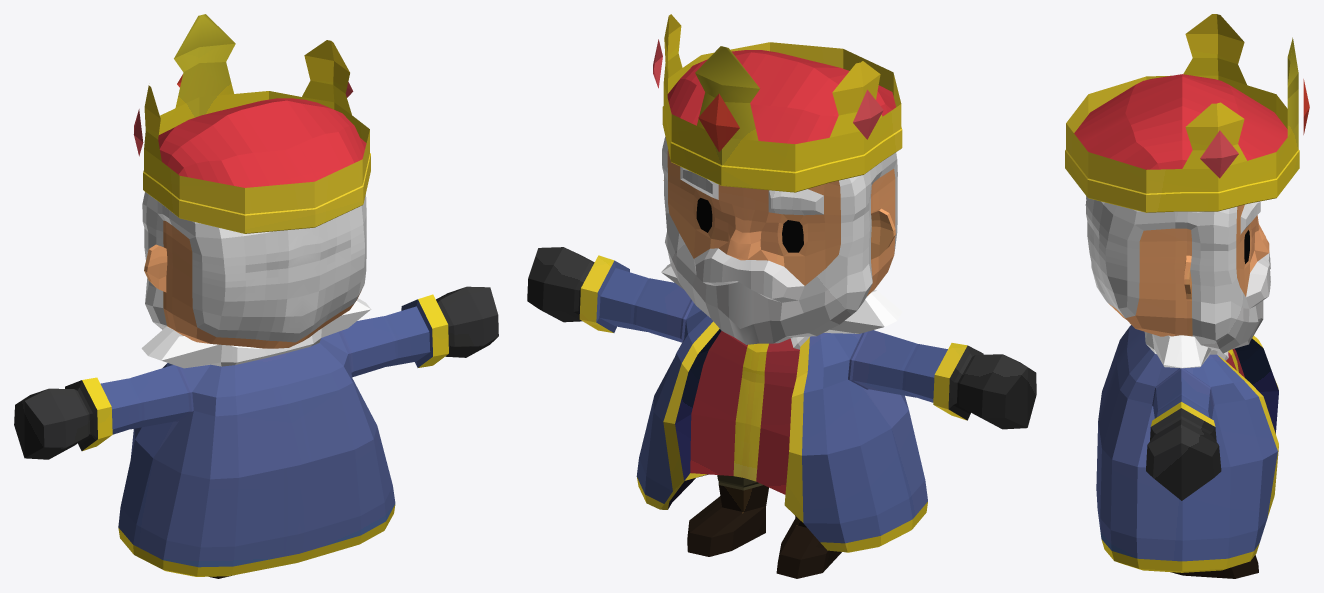
File: _king1-opt.glb
3 views of the same model, side by side, from view 1: azimuth 30°, elevation 25°; view 2: azimuth 150°, elevation 25°; view 3: azimuth 270°, elevation 25° (orthographic). The views are drawn at different scales.
Parts seen in each view (by area): view 1: Body; view 2: Body; view 3: Body.
Part boxes in pixels (bbox=[...]): Body: bbox=[14, 14, 498, 578]; Body: bbox=[527, 14, 1036, 578]; Body: bbox=[1065, 14, 1309, 578].
Size of the model in its own units: 4.09 by 4.24 by 1.85.
Materials: 1 (1 with a texture image).
